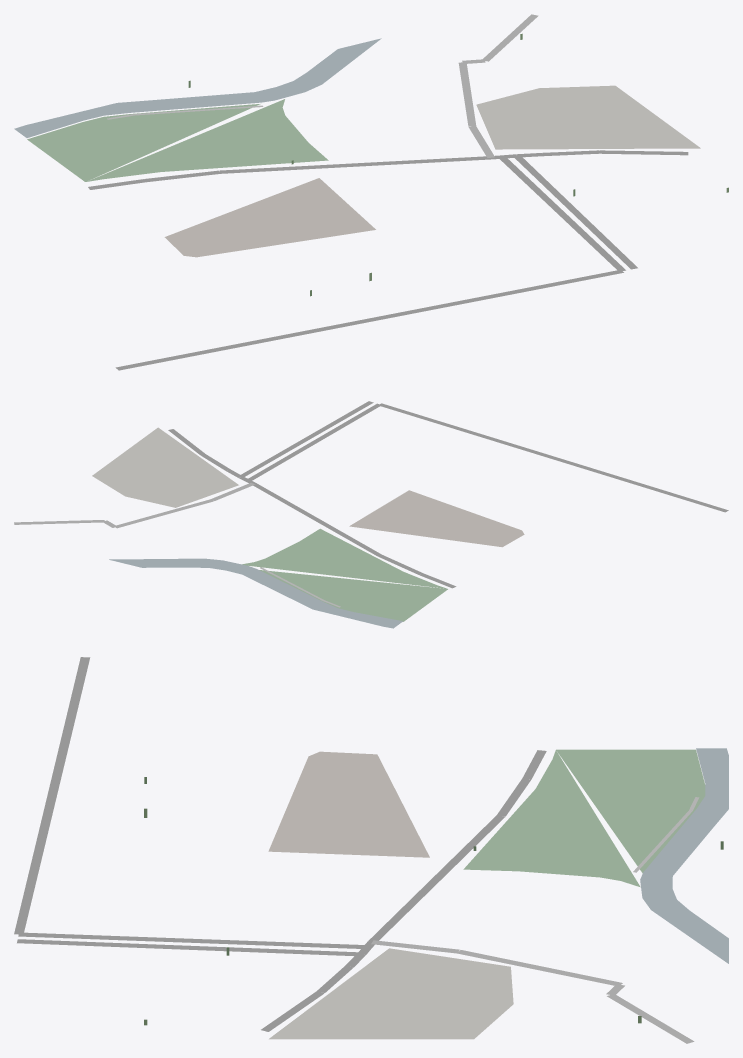
3 views of the same model, one above another, from view 1: azimuth 30°, elevation 25°; view 2: azimuth 150°, elevation 25°; view 3: azimuth 270°, elevation 25° (orthographic). The views are drawn at different scales.
Bounding box in the file's own units: 678 × 10.84 × 521.
